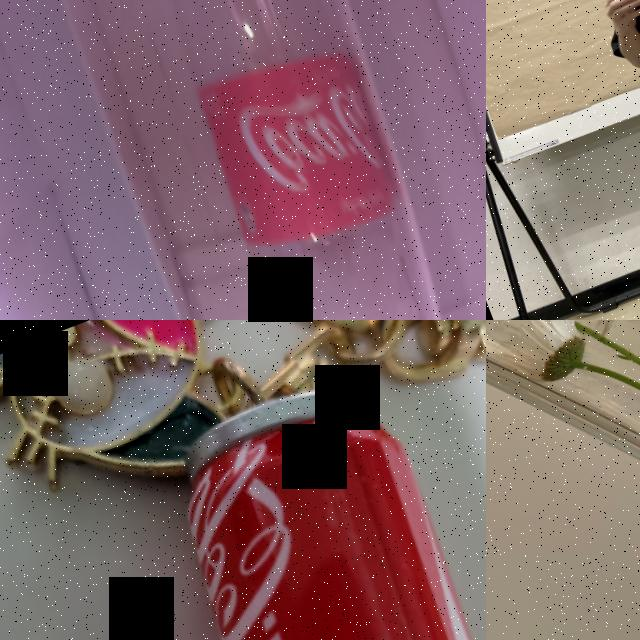bottle: (104, 0, 486, 320)
can: (127, 358, 486, 640)
